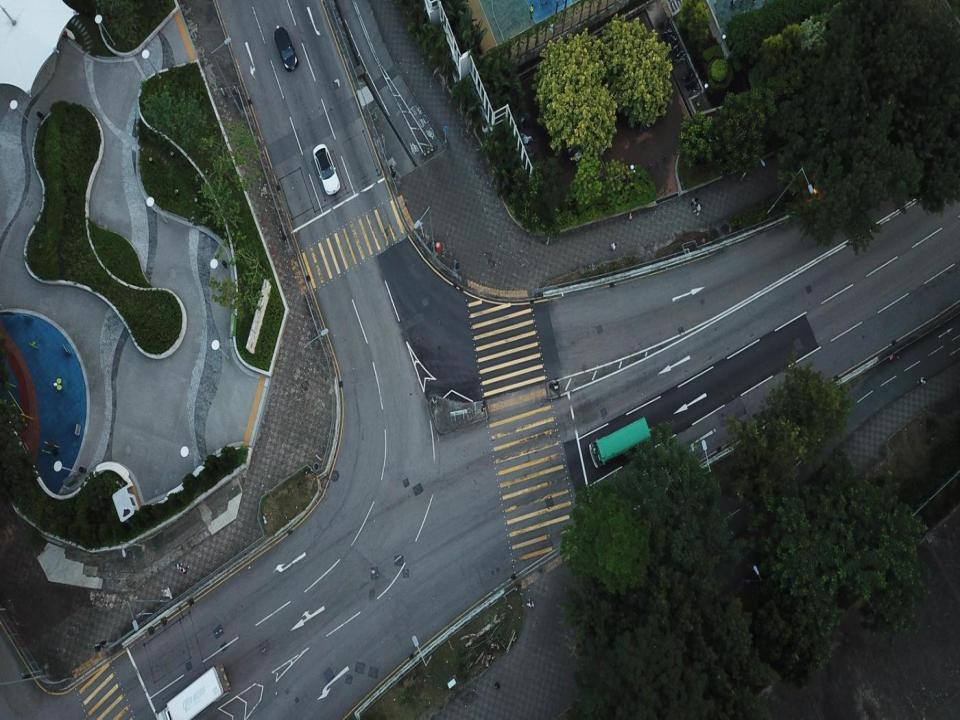bus: (588, 417, 652, 468)
car: (313, 144, 340, 194), (274, 26, 299, 72)
truck: (154, 666, 230, 719)
